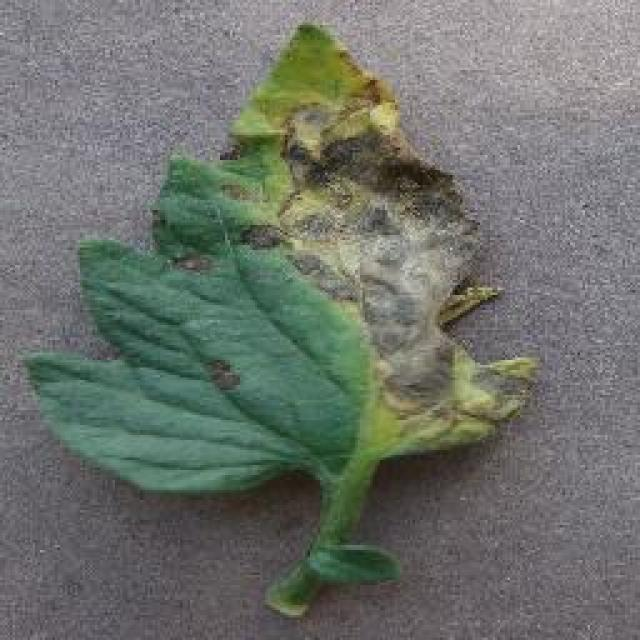Tomato Early blight leaf: (21, 21, 536, 496)
